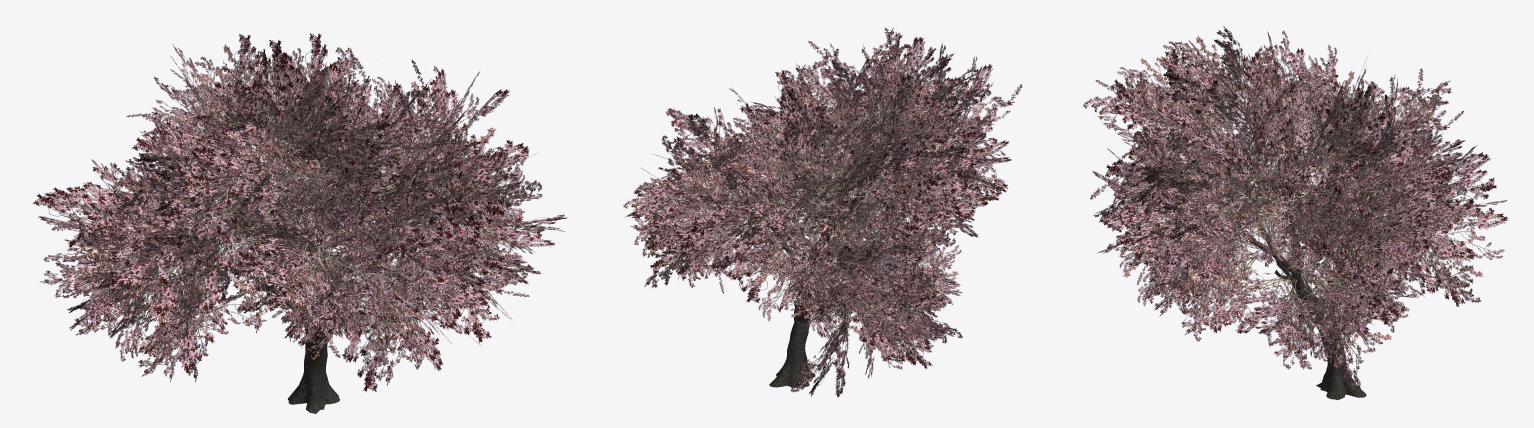
The model's file is Cherry_others1.gltf.
3 renders of one model, left to right at view 1: azimuth 30°, elevation 25°; view 2: azimuth 150°, elevation 25°; view 3: azimuth 270°, elevation 25°, orthographic. The views are drawn at different scales.
Visible parts, largest first — view 1: Object_4, Object_7, Object_5, Object_3, Object_6, Object_8, Object_2; view 2: Object_4, Object_6, Object_5, Object_7, Object_3, Object_8, Object_2; view 3: Object_5, Object_4, Object_6, Object_3, Object_7, Object_8, Object_2.
Part boxes in pixels (left/top/right/bottom): Object_4: left=62, top=44, right=524, bottom=361; Object_7: left=33, top=33, right=566, bottom=391; Object_5: left=43, top=47, right=564, bottom=369; Object_3: left=40, top=44, right=540, bottom=385; Object_6: left=38, top=44, right=554, bottom=371; Object_8: left=51, top=34, right=559, bottom=357; Object_2: left=209, top=203, right=389, bottom=413; Object_4: left=632, top=57, right=1005, bottom=377; Object_6: left=631, top=37, right=1011, bottom=397; Object_5: left=623, top=37, right=996, bottom=392; Object_7: left=646, top=32, right=1007, bottom=396; Object_3: left=625, top=27, right=1007, bottom=378; Object_8: left=640, top=28, right=1022, bottom=348; Object_2: left=767, top=188, right=870, bottom=388; Object_5: left=1083, top=30, right=1480, bottom=354; Object_4: left=1093, top=36, right=1507, bottom=369; Object_6: left=1092, top=31, right=1508, bottom=366; Object_3: left=1103, top=26, right=1454, bottom=392; Object_7: left=1099, top=49, right=1496, bottom=335; Object_8: left=1090, top=48, right=1476, bottom=369; Object_2: left=1239, top=158, right=1366, bottom=399.
Size of the model in its own units: 233 by 200 by 232.
Materials: 7 (7 with a texture image).
